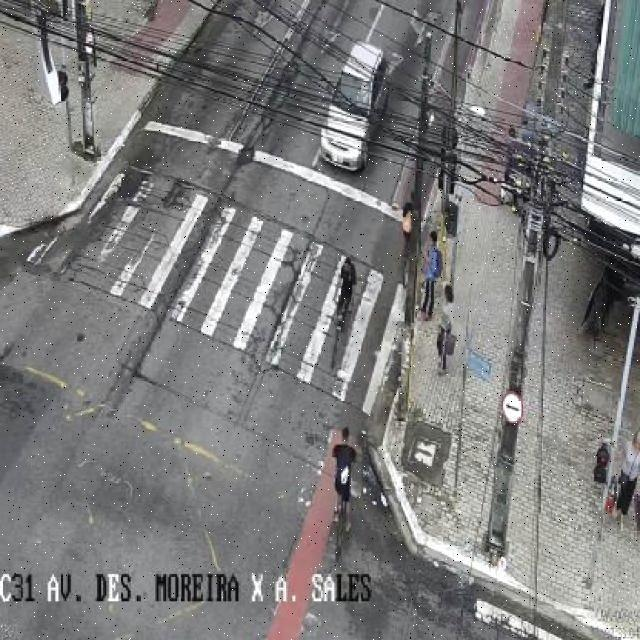Car: (299, 24, 407, 183)
Cycle: (321, 231, 368, 347)
